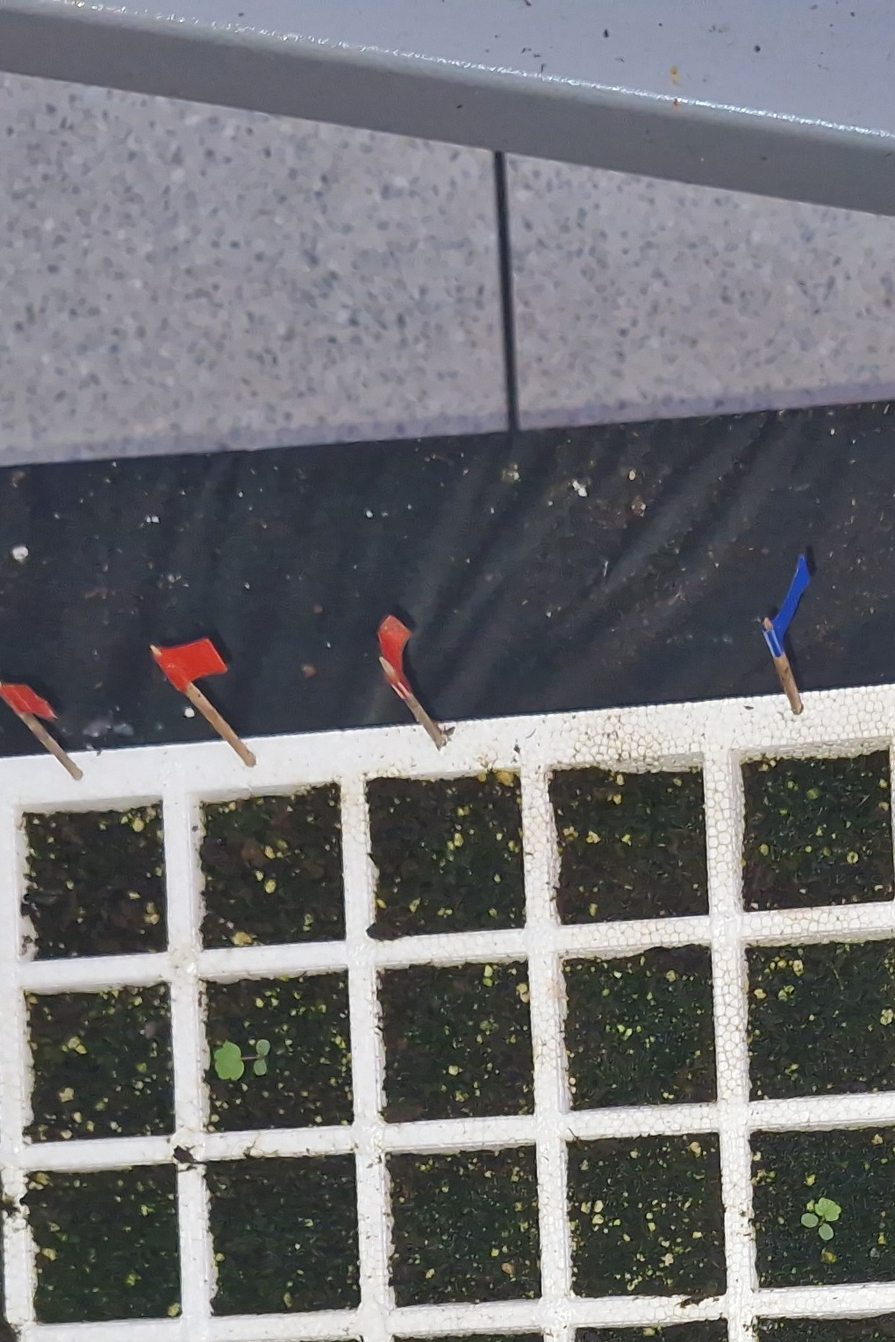Folha: (215, 1039, 244, 1080), (815, 1198, 841, 1221), (819, 1224, 833, 1240), (257, 1039, 270, 1056), (801, 1214, 818, 1227), (254, 1060, 266, 1075)
Germinacao: (214, 1039, 270, 1080), (801, 1197, 840, 1240)
